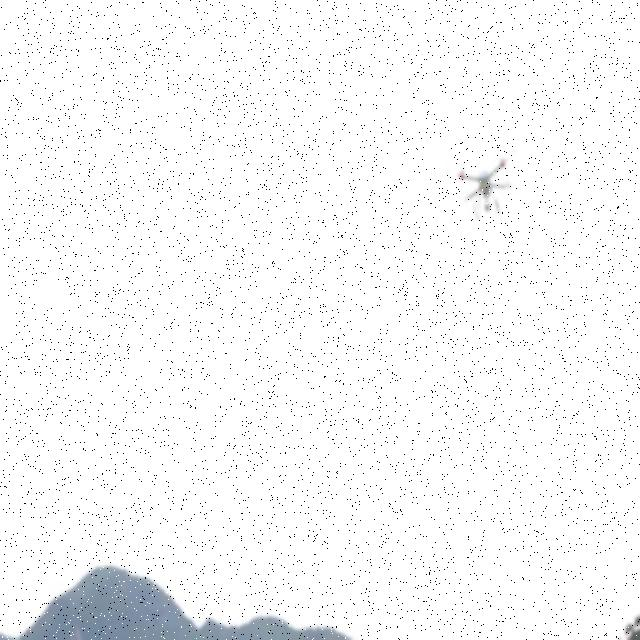UAV: (446, 150, 516, 220)
